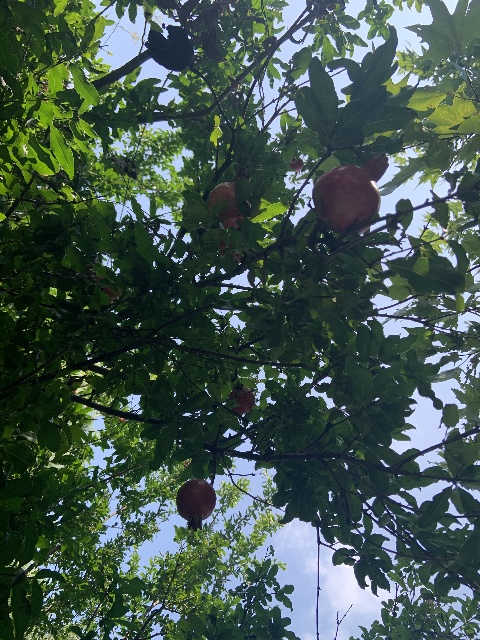ripe: (313, 153, 389, 235), (176, 478, 216, 532), (207, 180, 244, 228), (228, 383, 255, 413), (218, 239, 242, 262), (289, 157, 303, 172)
